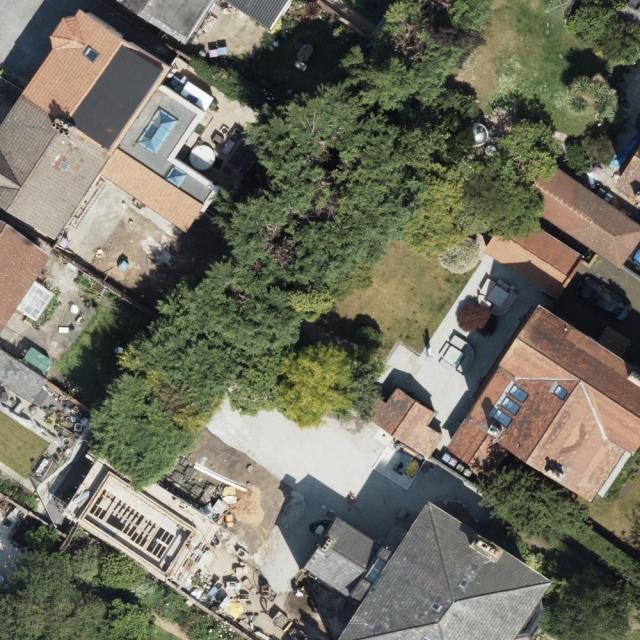roof: (0, 11, 228, 246), (444, 301, 640, 508), (305, 501, 553, 640), (520, 161, 640, 270), (485, 210, 584, 296), (0, 218, 55, 334), (366, 389, 445, 458), (122, 3, 213, 47), (219, 0, 293, 33), (613, 144, 640, 213)
skylight: (135, 103, 181, 154), (362, 552, 392, 586), (163, 164, 191, 189), (498, 395, 525, 418), (493, 406, 516, 431), (506, 381, 528, 405), (81, 41, 101, 63), (452, 573, 473, 592), (551, 383, 571, 402), (55, 157, 72, 175), (428, 600, 444, 614), (468, 561, 481, 573)
